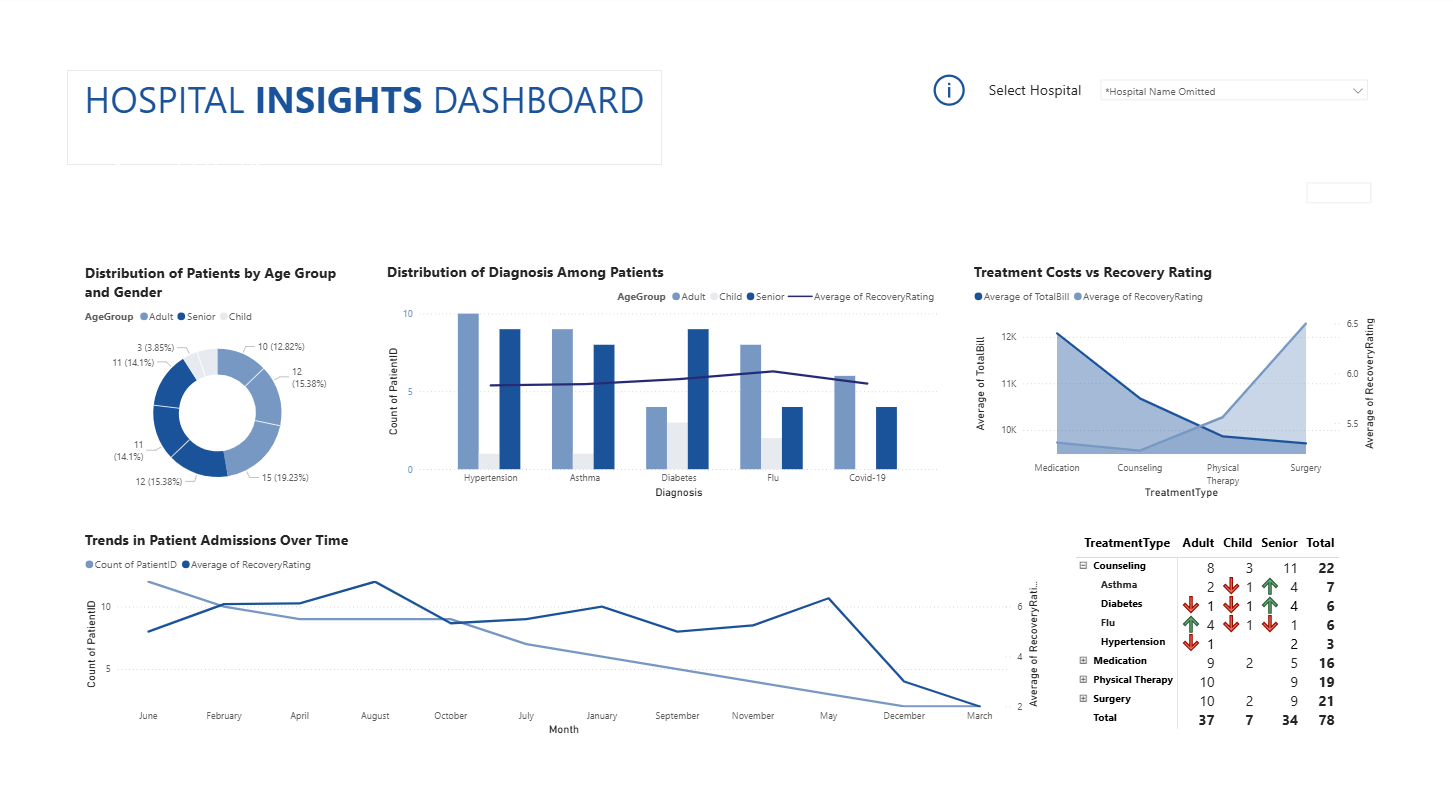

Layout of this report page (visuals, bound fields, positions):
{"tool":"powerbi","page":{"name":"Hospital Insights Dahboard","canvas":[1920,1080],"ordinal":0},"visuals":[{"type":"textbox","box":[92.2,97.5,783.7,125.1],"z":1000},{"type":"donutChart","title":"Distribution of Patients by Age Group and Gender","fields":{"Category":["Sheet1.AgeGroup"],"Y":["CountNonNull(Sheet1.Age)"],"Series":["Sheet1.Gender"]},"box":[110.3,351.2,359.2,316.2],"z":3000},{"type":"lineClusteredColumnComboChart","title":"Distribution of Diagnosis Among Patients","fields":{"Category":["Sheet1.Diagnosis"],"Y":["CountNonNull(Sheet1.PatientID)"],"Y2":["Avg(Sheet1 (2).RecoveryRating)"],"Series":["Sheet1.AgeGroup"]},"box":[508.1,350.7,735.9,316.3],"z":4000},{"type":"areaChart","title":"Treatment Costs vs Recovery Rating","fields":{"Category":["Sheet1 (2).TreatmentType"],"Y":["Avg(Sheet1.TotalBill)"],"Y2":["Avg(Sheet1 (2).RecoveryRating)"]},"box":[1281.5,350.7,538.1,316.3],"z":5000},{"type":"pivotTable","fields":{"Rows":["Sheet1 (2).TreatmentType","Sheet1.Diagnosis"],"Columns":["Sheet1.AgeGroup"],"Values":["CountNonNull(Sheet1.PatientID)"]},"box":[1416.4,703,403.2,275.8],"z":6000},{"type":"lineChart","title":"Trends in Patient Admissions Over Time","fields":{"Y":["CountNonNull(Sheet1.PatientID)"],"Category":["Sheet1.Month"],"Y2":["Avg(Sheet1 (2).RecoveryRating)"]},"box":[110.9,703,1266.5,275.8],"z":7000},{"type":"card","title":"Average Total Cost Per Patient","fields":{"Values":["Avg(Sheet1.TotalBill)"]},"box":[139.4,211.3,235.3,101.9],"z":8000},{"type":"card","title":"Average Recovery Rating per Patient","fields":{"Values":["Avg(Sheet1 (2).RecoveryRating)"]},"box":[923.3,211.3,260.8,101.9],"z":10000},{"type":"card","title":"Average Age Per Patient","fields":{"Values":["Avg(Sheet1.Age)"]},"box":[1353.4,211.3,236.8,125.9],"z":11000},{"type":"slicer","title":"Select Hospital","fields":{"Values":["Sheet1 (2).Hospital"]},"box":[1443.4,100.4,371.7,46.5],"z":12000},{"type":"slicer","title":"Select Year","fields":{"Values":["Sheet1.Year"]},"box":[1714.7,211.3,104.9,71.9],"z":13000},{"type":"textbox","box":[1301,104.9,142.4,39],"z":14000},{"type":"actionButton","box":[1227.8,97.4,54,53.1],"z":17000},{"type":"card","fields":{"Values":["Sum(Sheet1.Age)"]},"box":[1227.8,101.8,54,46],"z":17500}]}

Visuals, with their boxes in screenshot pixels (x1, y1, x2, y2), scaled from the page's 1920x1080 canvas onto the 1453x810 screenshot:
textbox: 70 73 663 167
"Distribution of Patients by Age Group and Gender" donutChart: 83 263 355 501
"Distribution of Diagnosis Among Patients" lineClusteredColumnComboChart: 385 263 941 500
"Treatment Costs vs Recovery Rating" areaChart: 970 263 1377 500
pivotTable - Sheet1 (2).TreatmentType x Sheet1.Diagnosis: 1072 527 1377 734
"Trends in Patient Admissions Over Time" lineChart: 84 527 1042 734
"Average Total Cost Per Patient" card: 105 158 284 235
"Average Recovery Rating per Patient" card: 699 158 896 235
"Average Age Per Patient" card: 1024 158 1203 253
"Select Hospital" slicer: 1092 75 1374 110
"Select Year" slicer: 1298 158 1377 212
textbox: 985 79 1092 108
actionButton: 929 73 970 113
card - Sum(Sheet1.Age): 929 76 970 111
